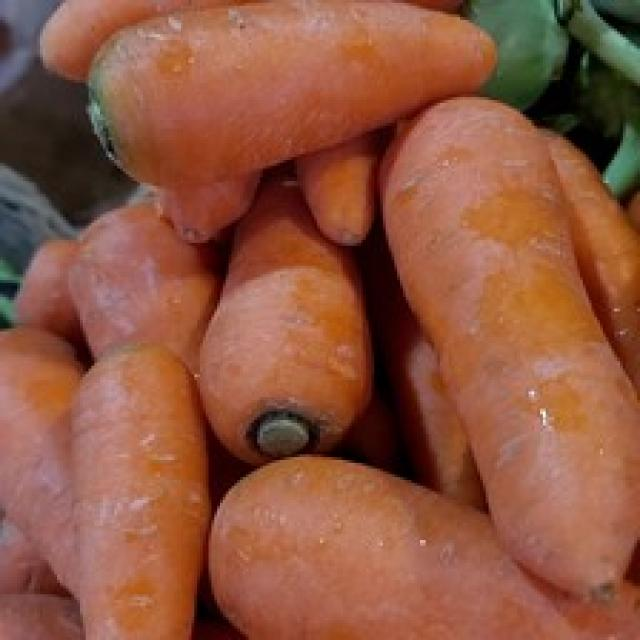Fresh_Carrot: (373, 90, 640, 608), (82, 19, 525, 191), (186, 154, 371, 470), (83, 336, 209, 640)
